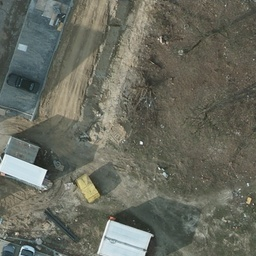car: (6, 71, 44, 95)
